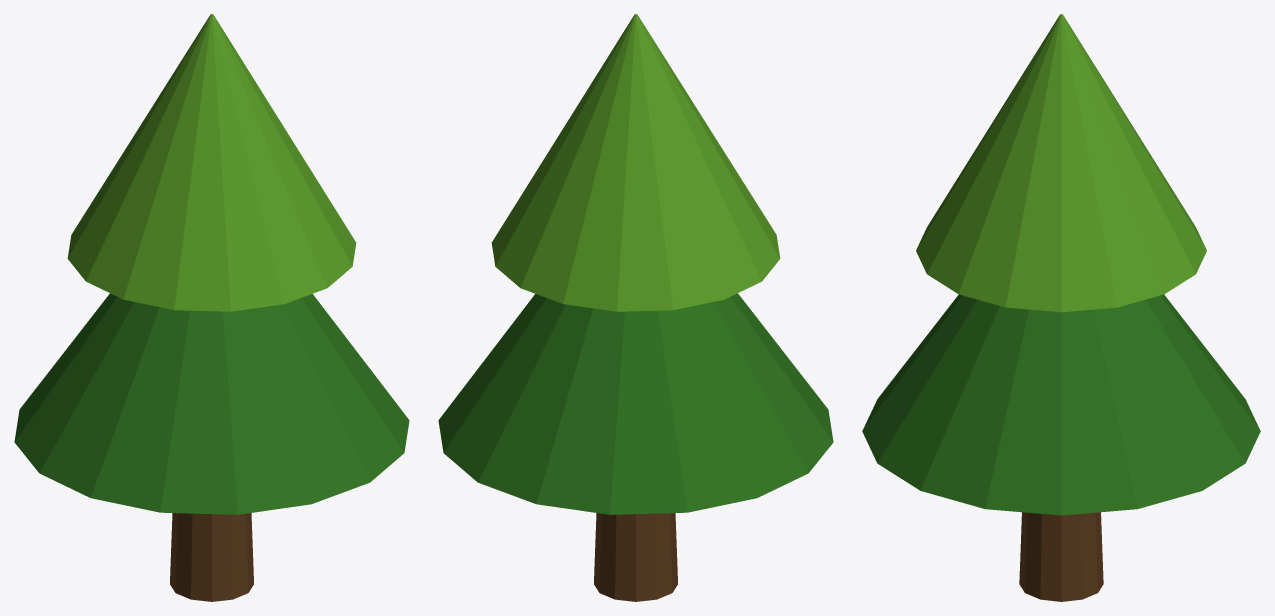
Rendered from tree.obj.
The picture shows the model from 3 angles, left to right: view 1: azimuth 30°, elevation 25°; view 2: azimuth 150°, elevation 25°; view 3: azimuth 270°, elevation 25°; orthographic projection.
Size of the model in its own units: 5.2 by 8.2 by 5.2.
